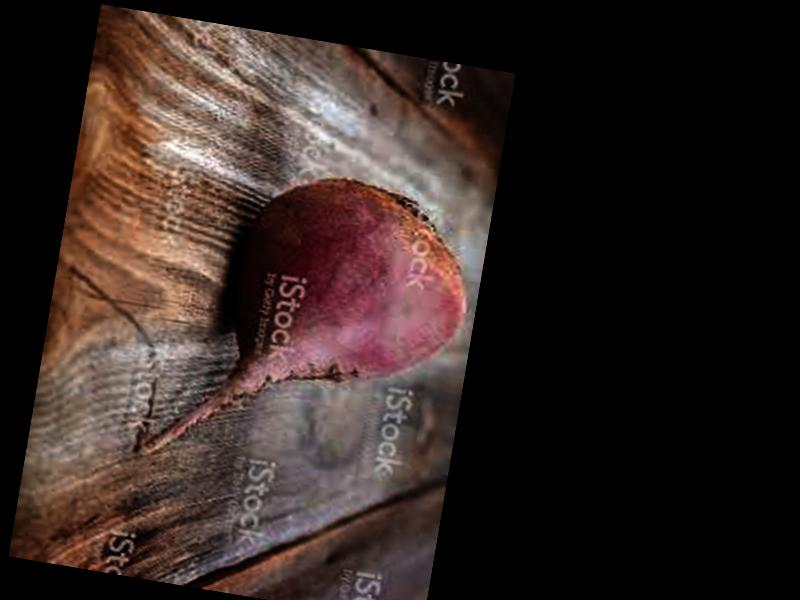Beet: (136, 153, 484, 506)
